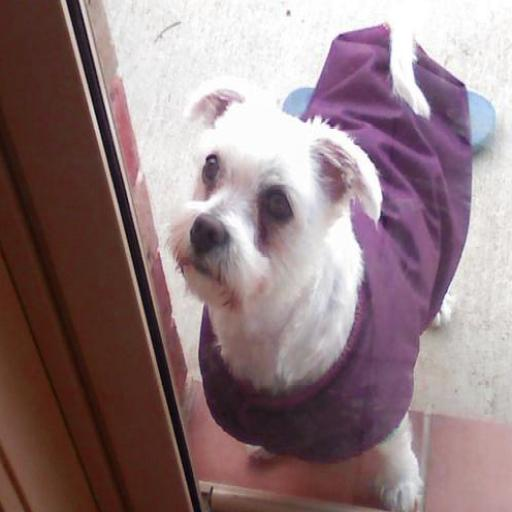dog_face: (167, 97, 368, 304)
